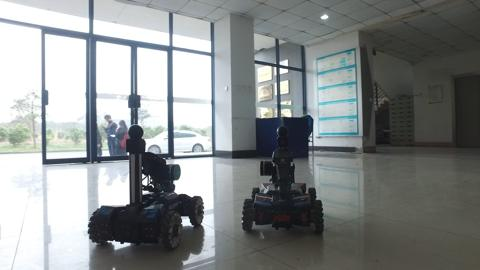chariot: (76, 122, 210, 254), (236, 120, 336, 239)
